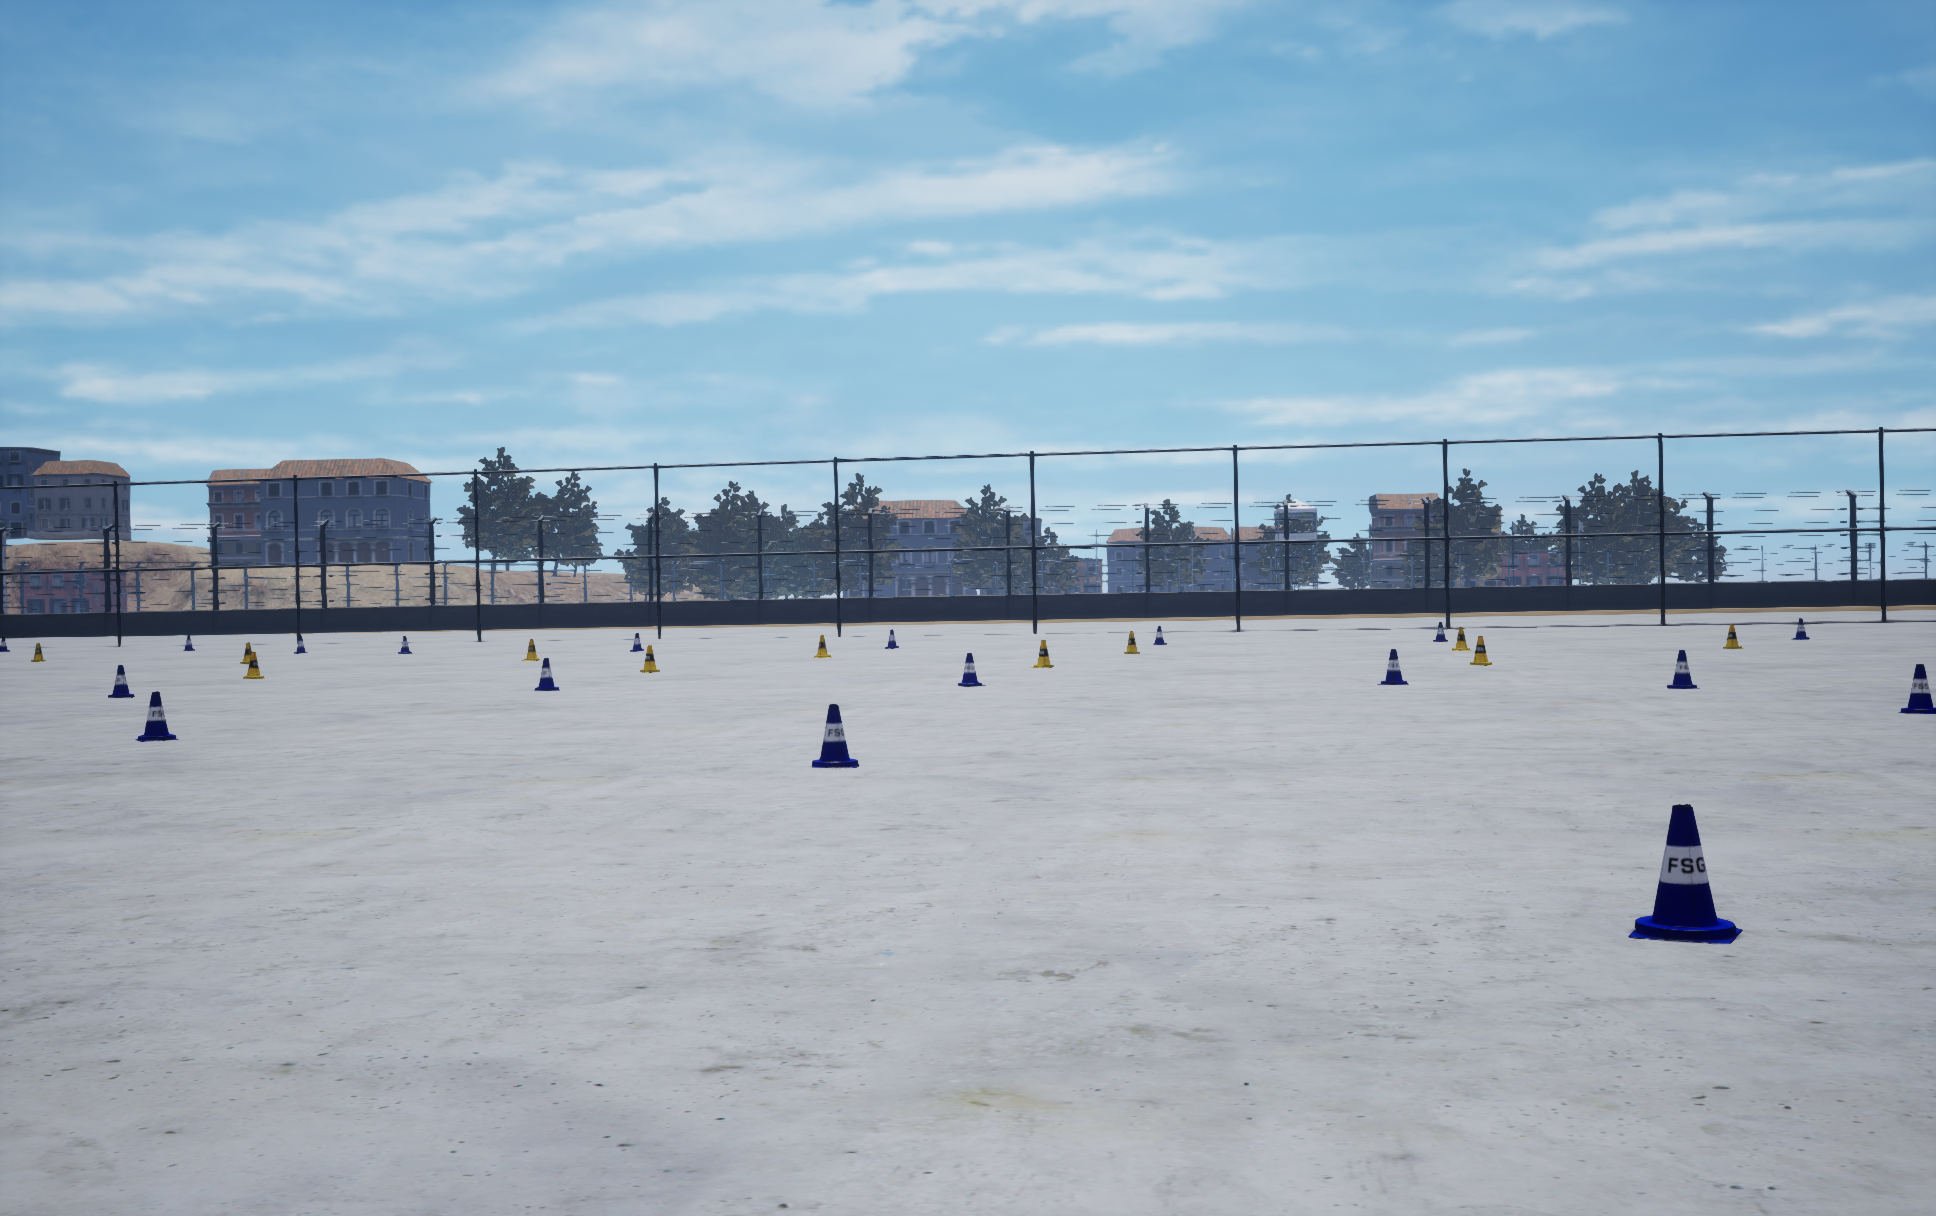blue: (1030, 640, 1053, 667), (1470, 636, 1491, 665), (242, 651, 263, 678), (640, 644, 658, 672), (1723, 623, 1743, 649), (1451, 628, 1471, 650), (521, 639, 539, 660), (814, 635, 831, 657), (1123, 630, 1139, 653), (240, 642, 251, 663)
yellow: (1628, 804, 1743, 943), (813, 705, 857, 766), (134, 691, 178, 741), (1898, 664, 1935, 713), (1667, 650, 1699, 688), (1377, 649, 1408, 684), (958, 653, 985, 686), (108, 665, 134, 698), (534, 658, 559, 691), (1790, 618, 1809, 639), (1433, 622, 1447, 642), (885, 629, 898, 649), (1153, 626, 1166, 644), (630, 633, 643, 651)
